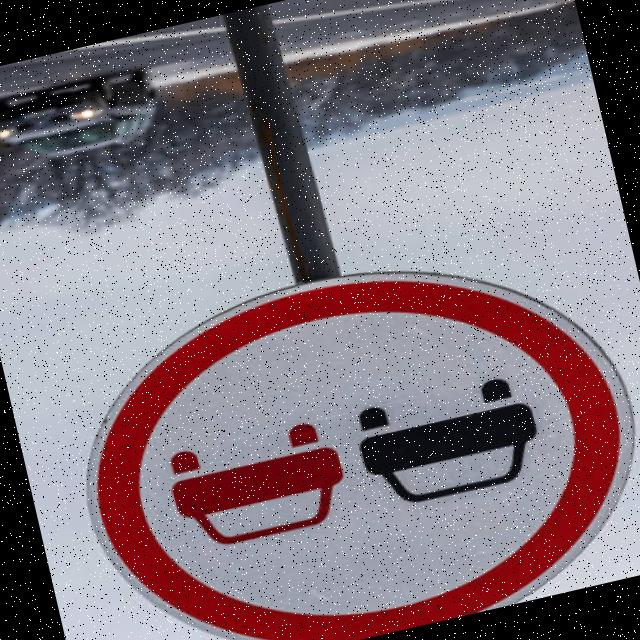no_passing: (37, 203, 640, 640)
